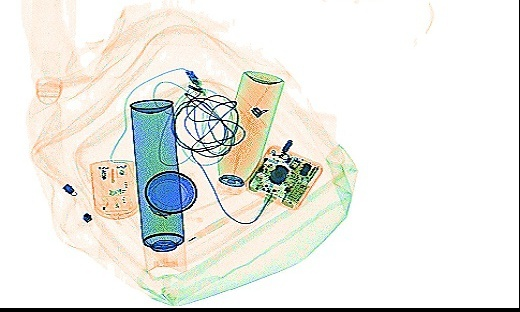pressure: (128, 93, 188, 276), (212, 69, 283, 199)
